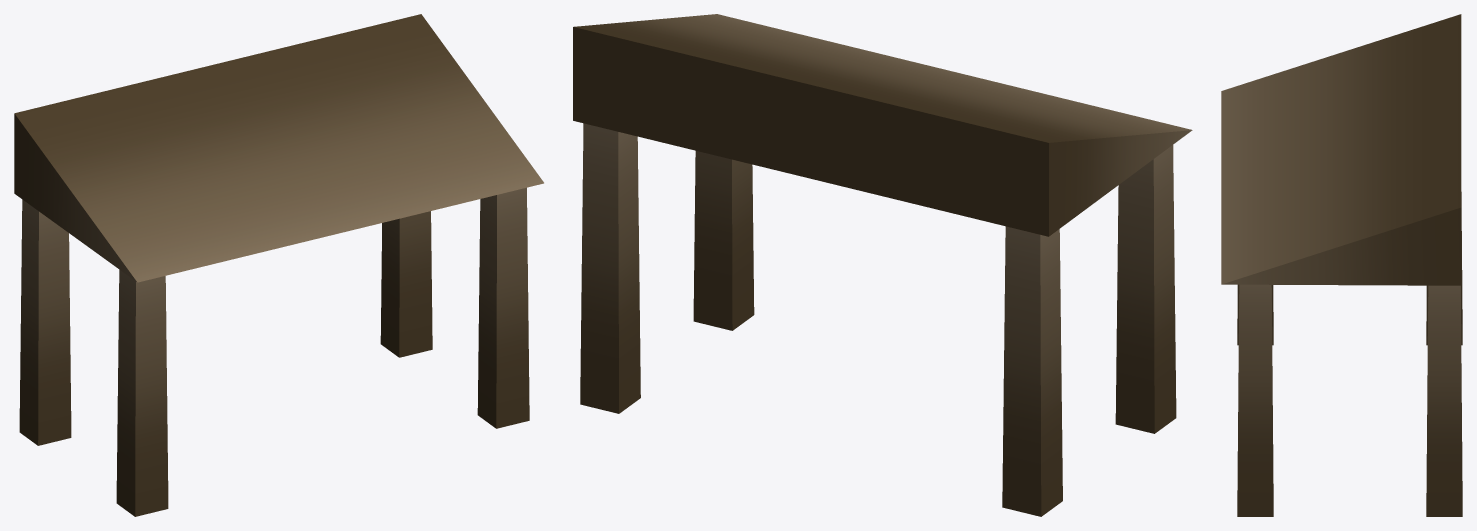
File: MarketStall_Pillars.fbx
3 renders of one model, left to right at view 1: azimuth 30°, elevation 25°; view 2: azimuth 150°, elevation 25°; view 3: azimuth 270°, elevation 25°, orthographic. The views are drawn at different scales.
Visible parts, largest first — view 1: MarketStall_Pillars; view 2: MarketStall_Pillars; view 3: MarketStall_Pillars.
Part boxes in pixels (bbox=[...]): MarketStall_Pillars: bbox=[14, 14, 543, 516]; MarketStall_Pillars: bbox=[573, 14, 1192, 516]; MarketStall_Pillars: bbox=[1221, 14, 1462, 516].
Size of the model in its own units: 2.7 by 2.03 by 1.42.
Materials: 1 (1 with a texture image).
